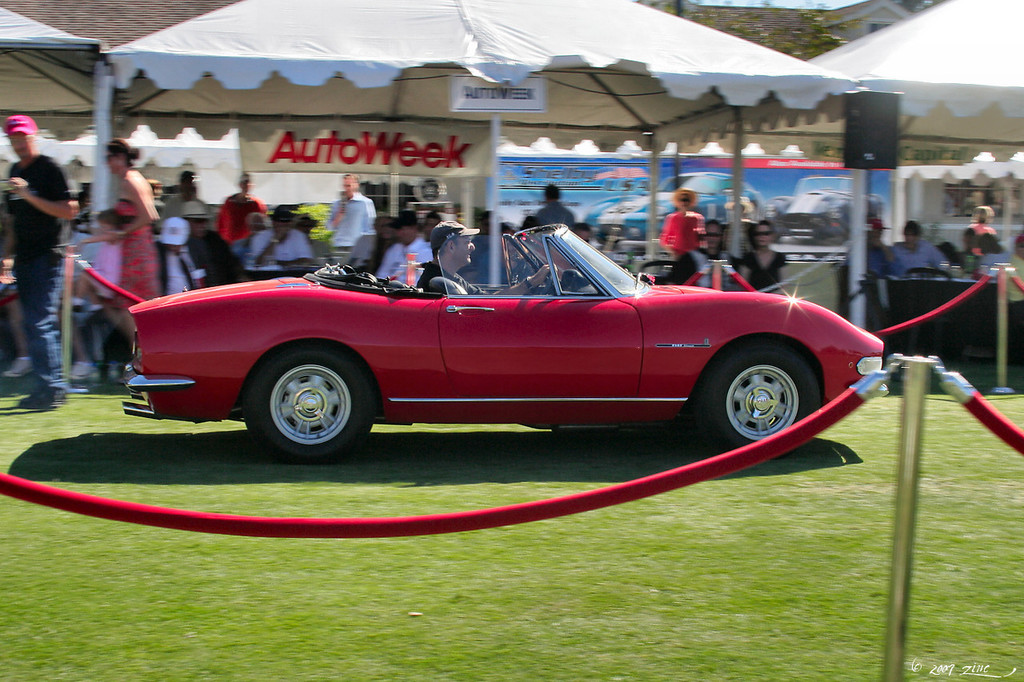Car: (124, 219, 885, 453)
